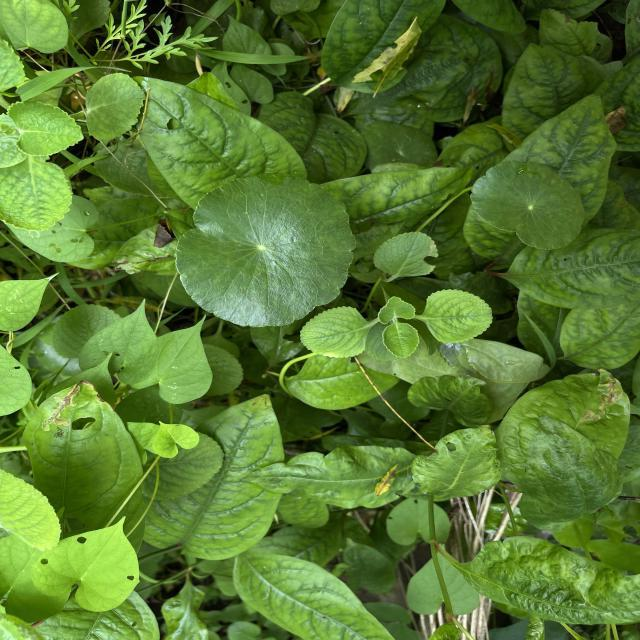Bacopa monnieri: (172, 172, 360, 331), (468, 158, 586, 252)
